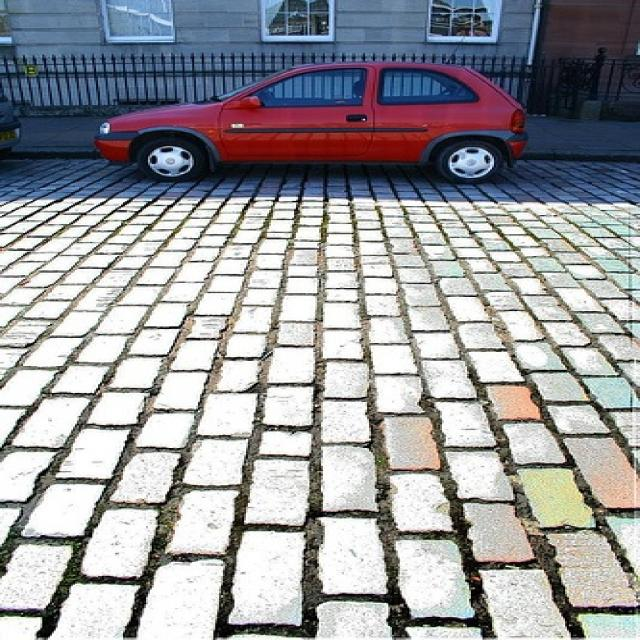car: (92, 57, 536, 187)
